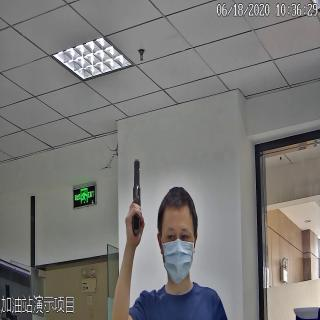gun: (124, 159, 146, 233)
